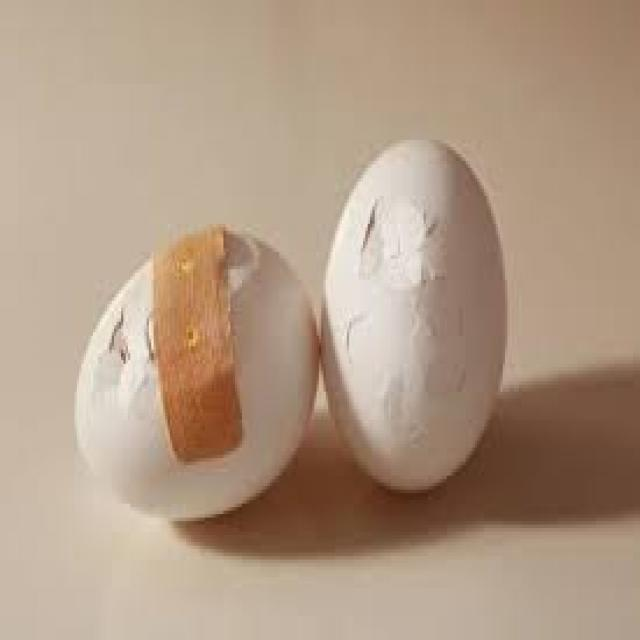biodegradable: (318, 137, 510, 492), (77, 253, 320, 522)
